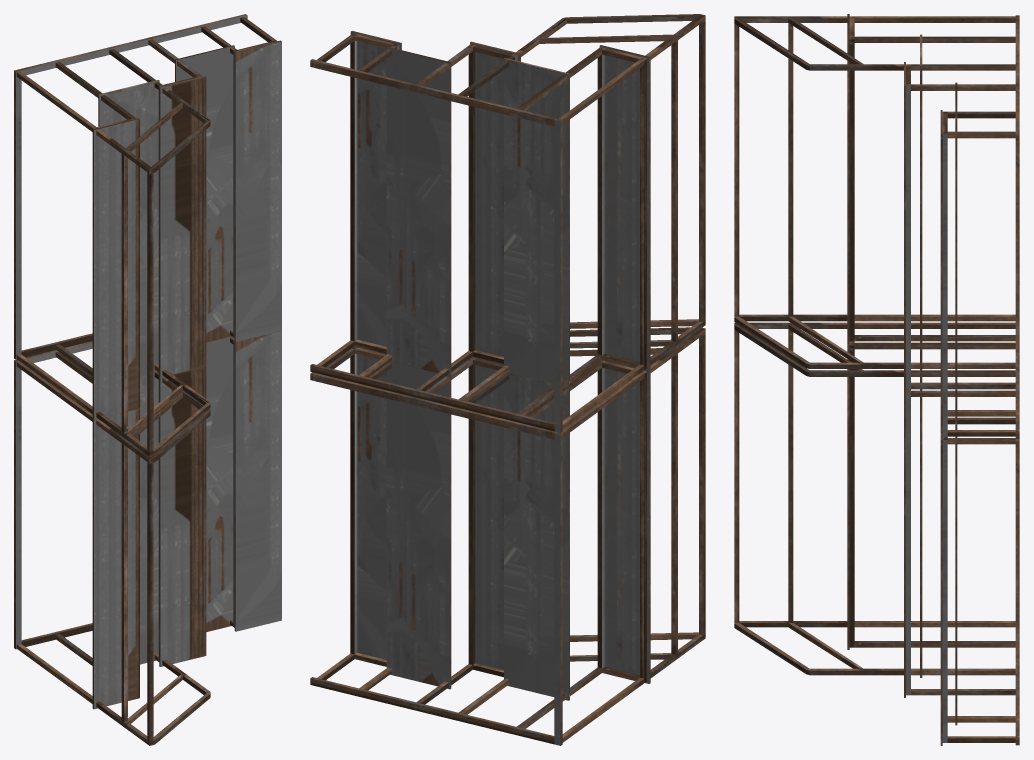
Rendered from bench.glb.
The picture shows the model from 3 angles, left to right: view 1: azimuth 30°, elevation 25°; view 2: azimuth 150°, elevation 25°; view 3: azimuth 270°, elevation 25°; orthographic projection. The views are drawn at different scales.
Visible parts, largest first — view 1: Benches03; view 2: Benches03; view 3: Benches03.
Part boxes in pixels (box(x1,y1,x2,y2)): Benches03: box(14, 14, 281, 745); Benches03: box(310, 14, 705, 745); Benches03: box(734, 14, 1019, 745).
Size of the model in its own units: 1.23 by 2.93 by 1.23.
1 material, 1 textured.
